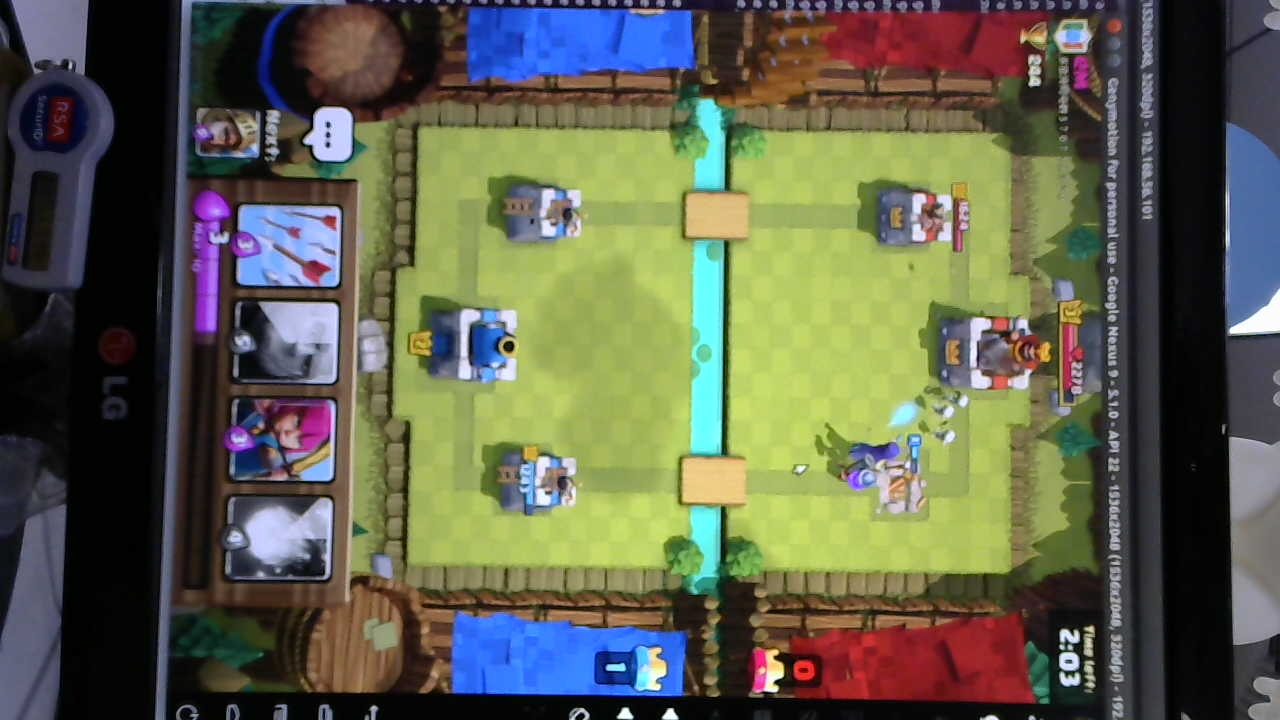arena: (505, 184, 586, 244), (510, 449, 581, 514)
darena: (868, 459, 926, 521)
earena: (875, 188, 955, 250)
eking: (939, 310, 1047, 394)
king: (430, 304, 523, 387)
musketeer: (831, 453, 877, 488)
skeleton: (930, 387, 971, 450)
witch: (840, 437, 908, 465)
